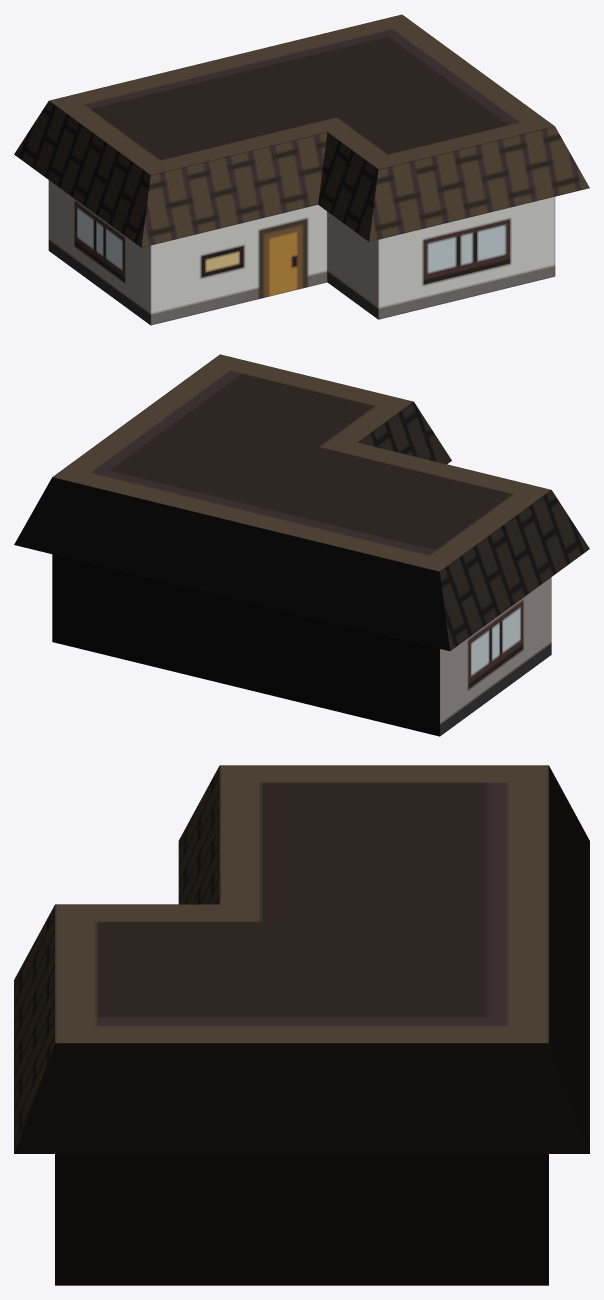
File: town_hall_lvl1.FBX
3 views of the same model, one above another, from view 1: azimuth 30°, elevation 25°; view 2: azimuth 150°, elevation 25°; view 3: azimuth 270°, elevation 25° (orthographic). The views are drawn at different scales.
Visible parts, largest first — view 1: Box001; view 2: Box001; view 3: Box001.
Part boxes in pixels (bbox=[...]): Box001: bbox=[14, 14, 589, 325]; Box001: bbox=[14, 354, 589, 736]; Box001: bbox=[14, 765, 589, 1285].
Bounding box in the file's own units: 144 × 52 × 112.
Materials: 1 (1 with a texture image).
